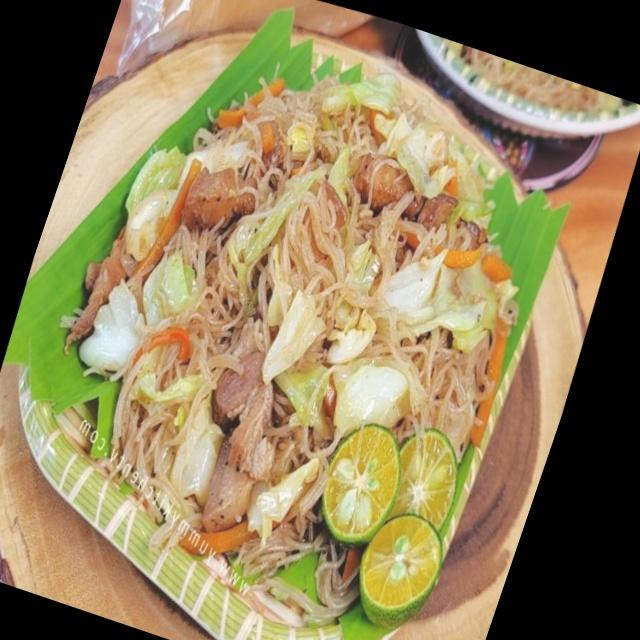pancit bihon: (94, 68, 523, 609)
